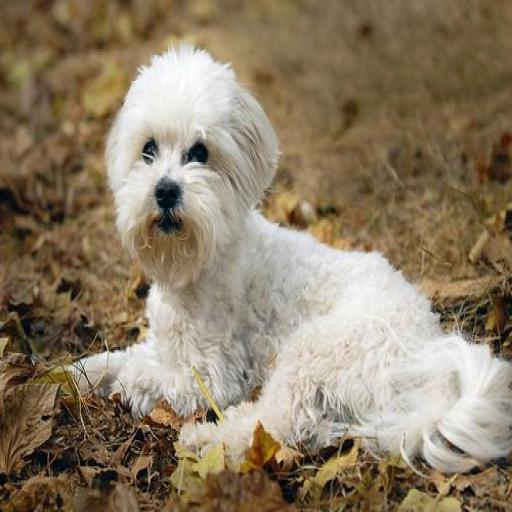dog_face: (104, 49, 261, 293)
